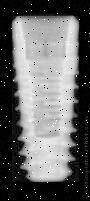Novodent: (12, 16, 79, 182)
